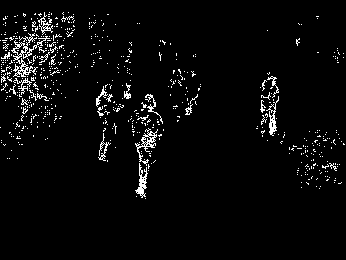person: (126, 94, 161, 200), (95, 82, 124, 166), (257, 73, 280, 142)
